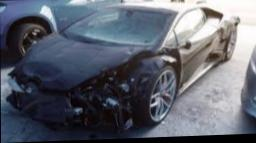Bonnet: (7, 44, 156, 91)
Bumper: (1, 88, 135, 143)
